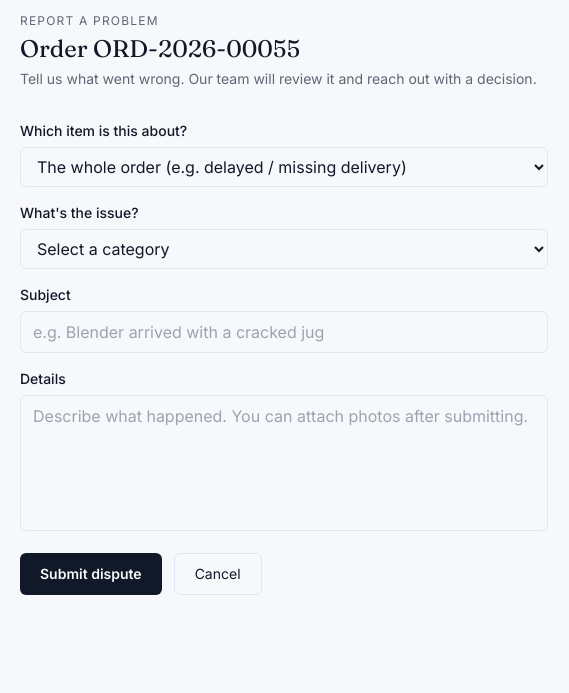
it: NewDispute page - field errors › clears a field's message once it is filled in
Expected: the heading "Order ORD-2026-00055" is shown, [20,34,300,63]
Click the button "Submit dispute": (91, 574) [20,553,162,595]
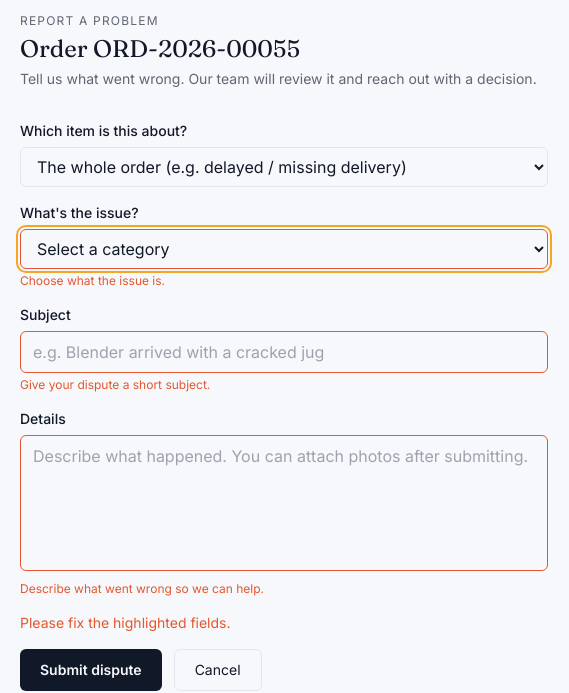
Select "Other issue" in the dropdown labelled "What's the issue?": (284, 249) [20,229,548,269]
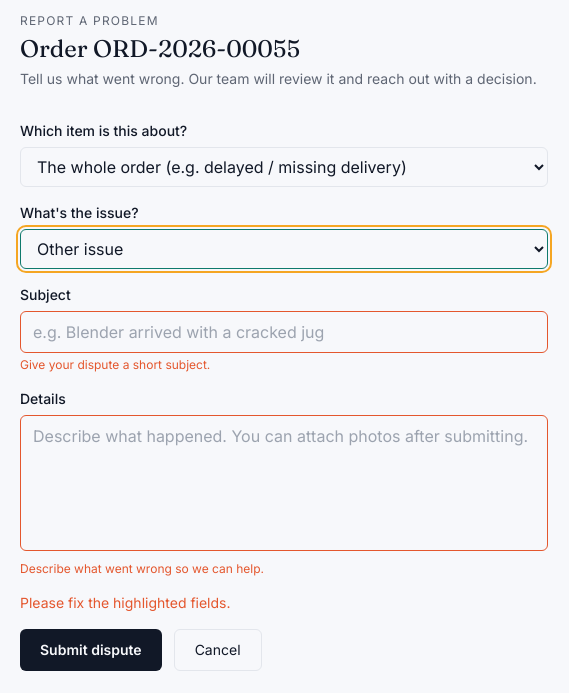
Result: the text "Choose what the issue is." is gone
